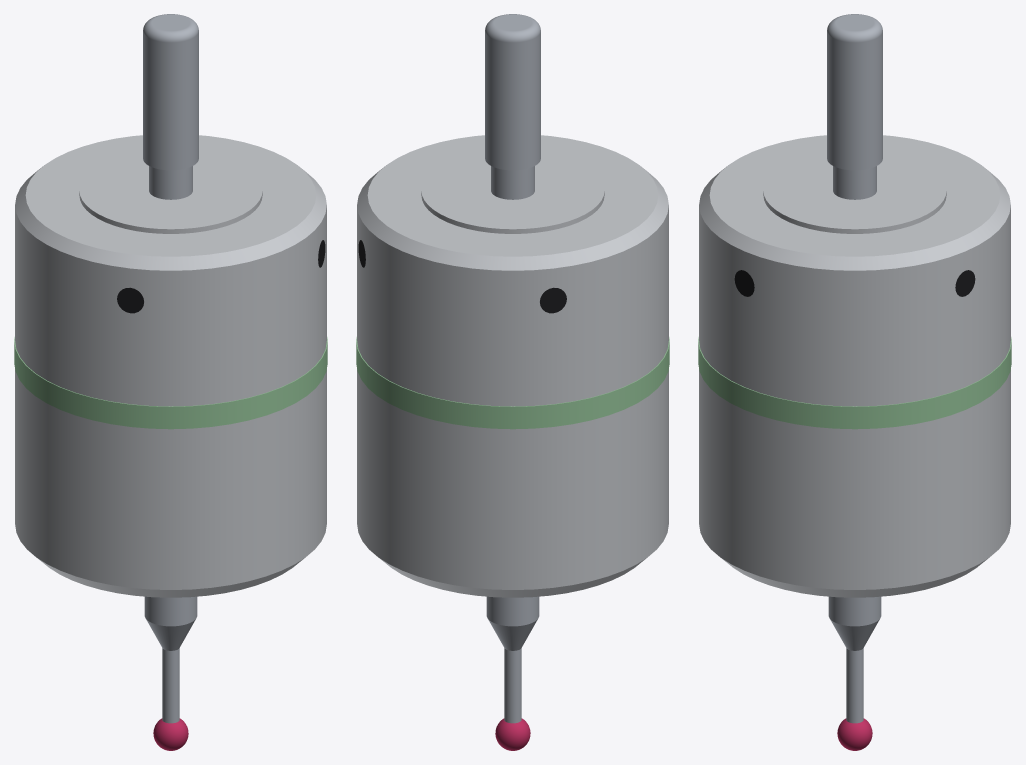
File: makera-3d-probe.glb
3 views of the same model, side by side, from view 1: azimuth 30°, elevation 25°; view 2: azimuth 150°, elevation 25°; view 3: azimuth 270°, elevation 25° (orthographic).
Parts seen in each view (by area): view 1: Makera 3D Probe; view 2: Makera 3D Probe; view 3: Makera 3D Probe.
Part boxes in pixels (bbox=[...]): Makera 3D Probe: bbox=[14, 14, 327, 750]; Makera 3D Probe: bbox=[356, 14, 669, 750]; Makera 3D Probe: bbox=[698, 14, 1011, 750].
Size of the model in its own units: 0.0178 by 0.0455 by 0.0178.
